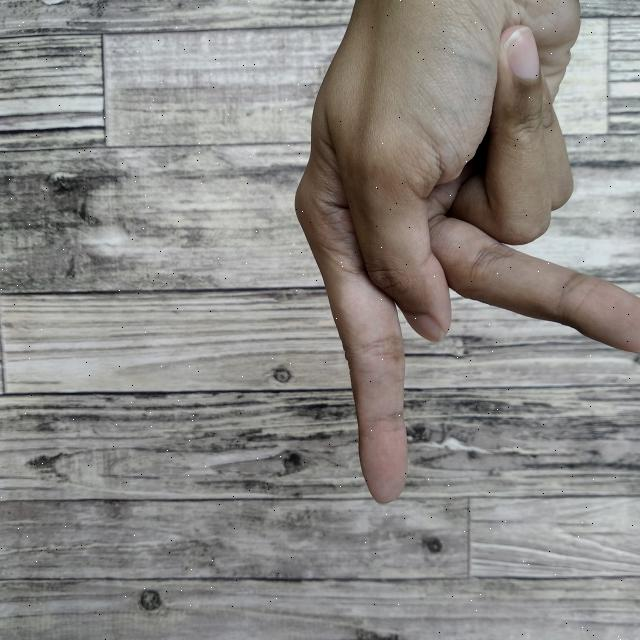P: (281, 0, 640, 516)
